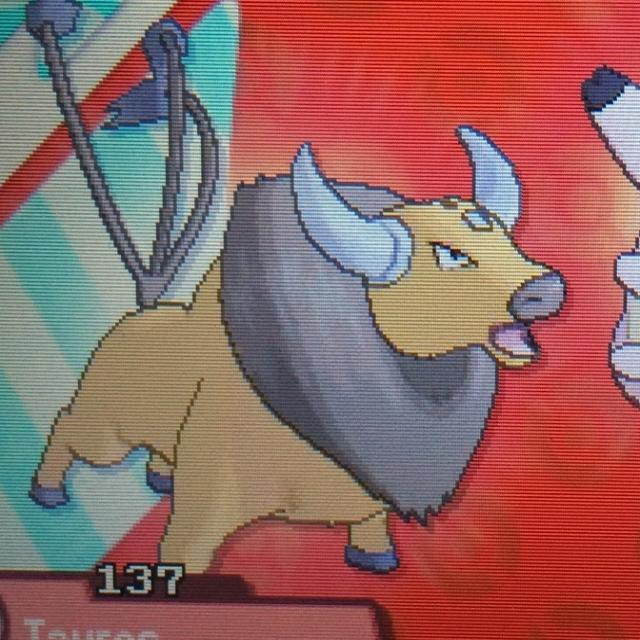Tauros: (82, 135, 548, 565)
